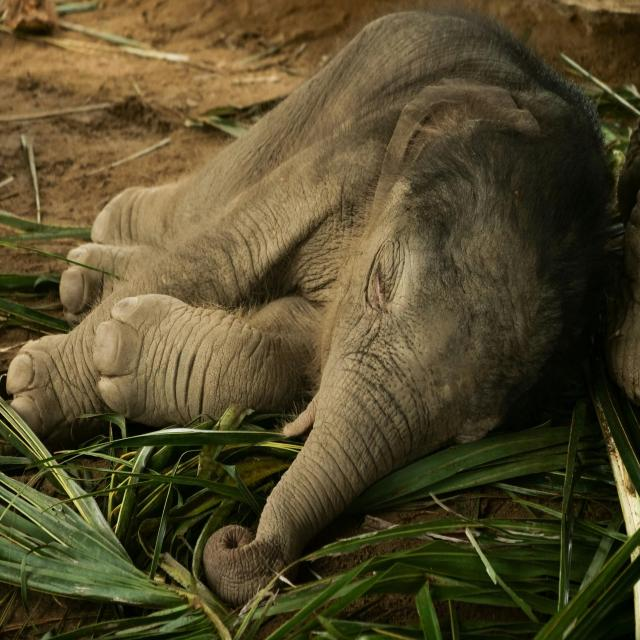Elephant: (12, 11, 616, 600)
